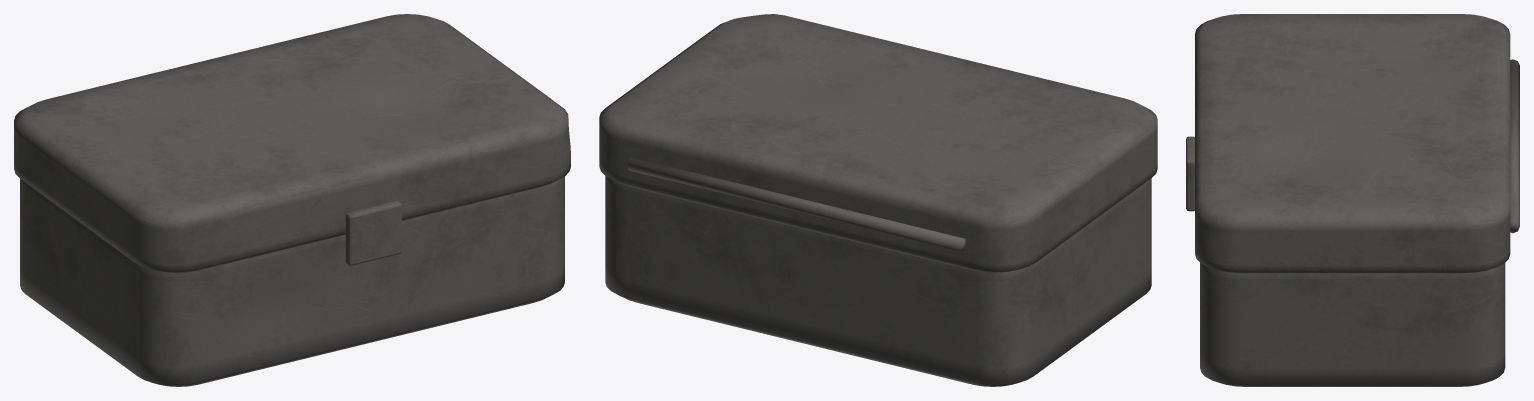
File: lunch-tin.glb
The picture shows the model from 3 angles, left to right: view 1: azimuth 30°, elevation 25°; view 2: azimuth 150°, elevation 25°; view 3: azimuth 270°, elevation 25°; orthographic projection.
Parts seen in each view (by area): view 1: lunch-tin-body; view 2: lunch-tin-body; view 3: lunch-tin-body.
Boxes of the visible parts, x1=… form: lunch-tin-body: x1=14, y1=14, x2=570, y2=386; lunch-tin-body: x1=599, y1=14, x2=1157, y2=386; lunch-tin-body: x1=1186, y1=14, x2=1519, y2=386.
Size of the model in its own units: 0.194 by 0.076 by 0.1313.
1 material, 1 textured.
